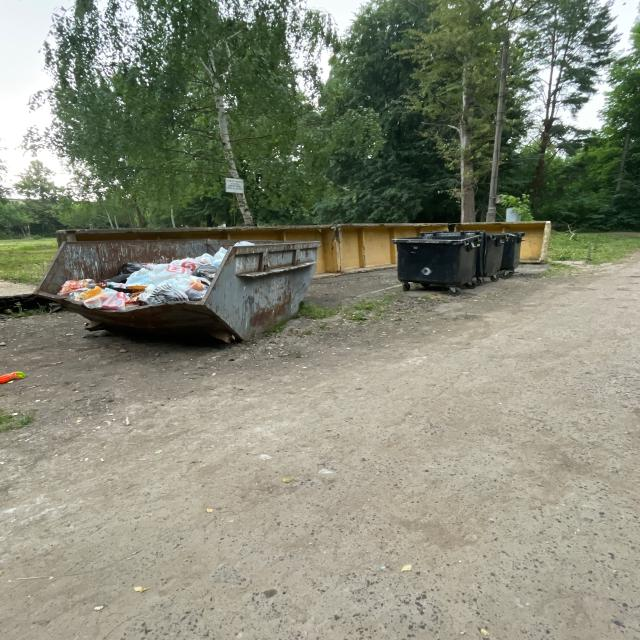bin: (62, 241, 322, 343), (33, 237, 322, 299), (394, 230, 527, 286)
trash: (57, 241, 255, 310)
